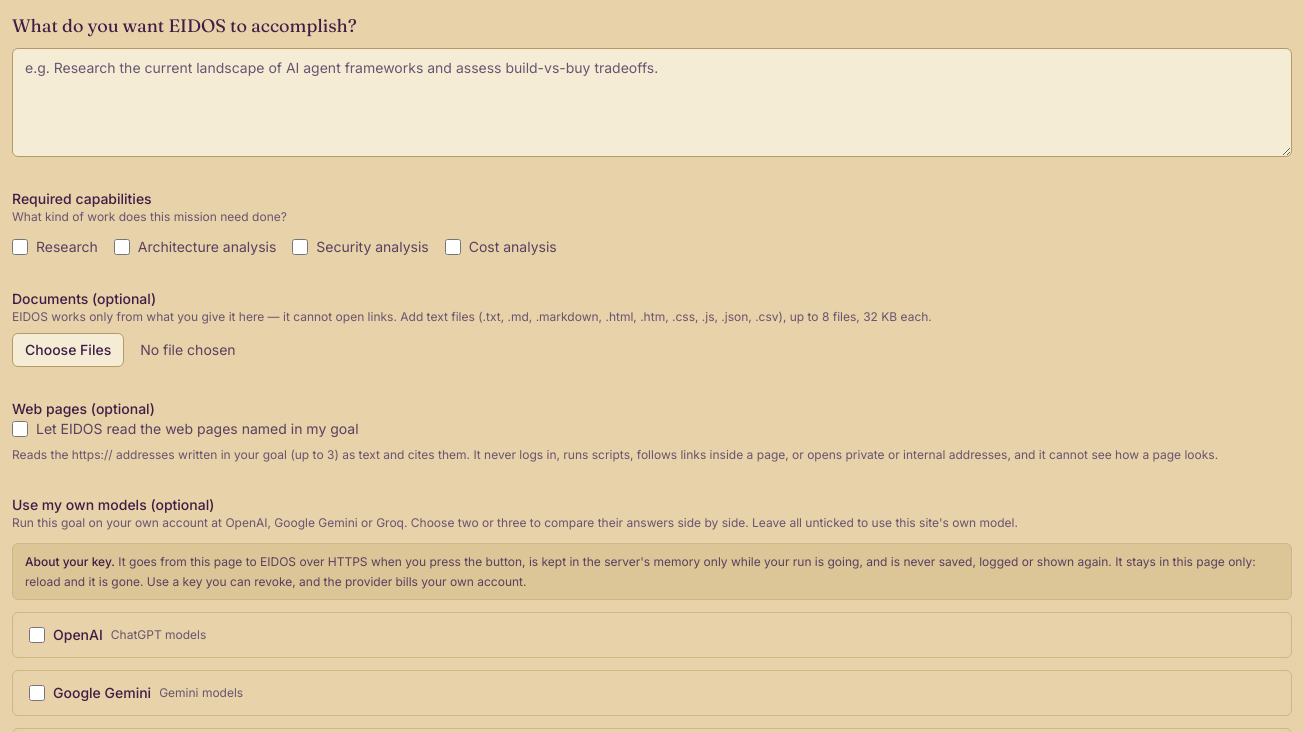
Test: CreateMissionForm — documents › tells the visitor, before sending, when the goal names no address to read
Replace the text in the text box labelled "What do you want EIDOS to accomplish?" with "Review my portfolio". click: (652, 102)
box: [12,48,1292,157]
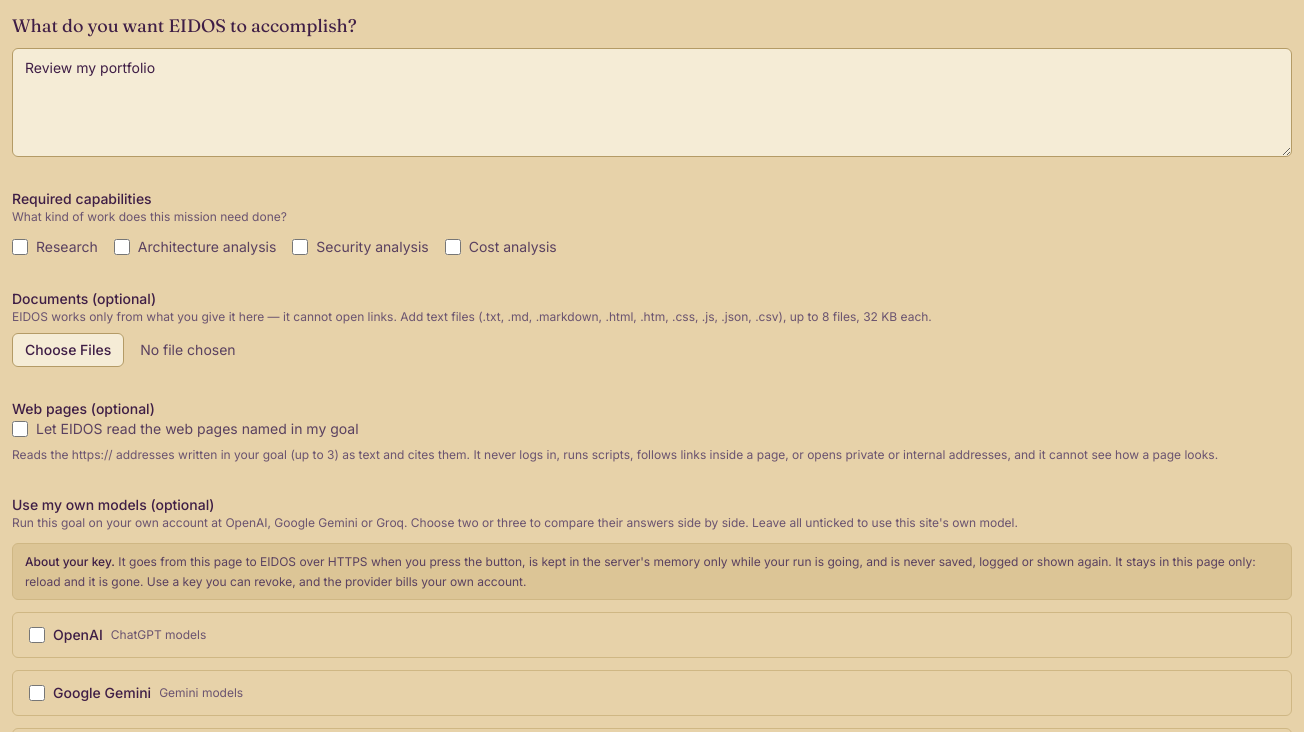
Click the checkbox labelled "Let EIDOS read the web pages named in my goal". click: click(20, 429)
box: [12,421,28,437]
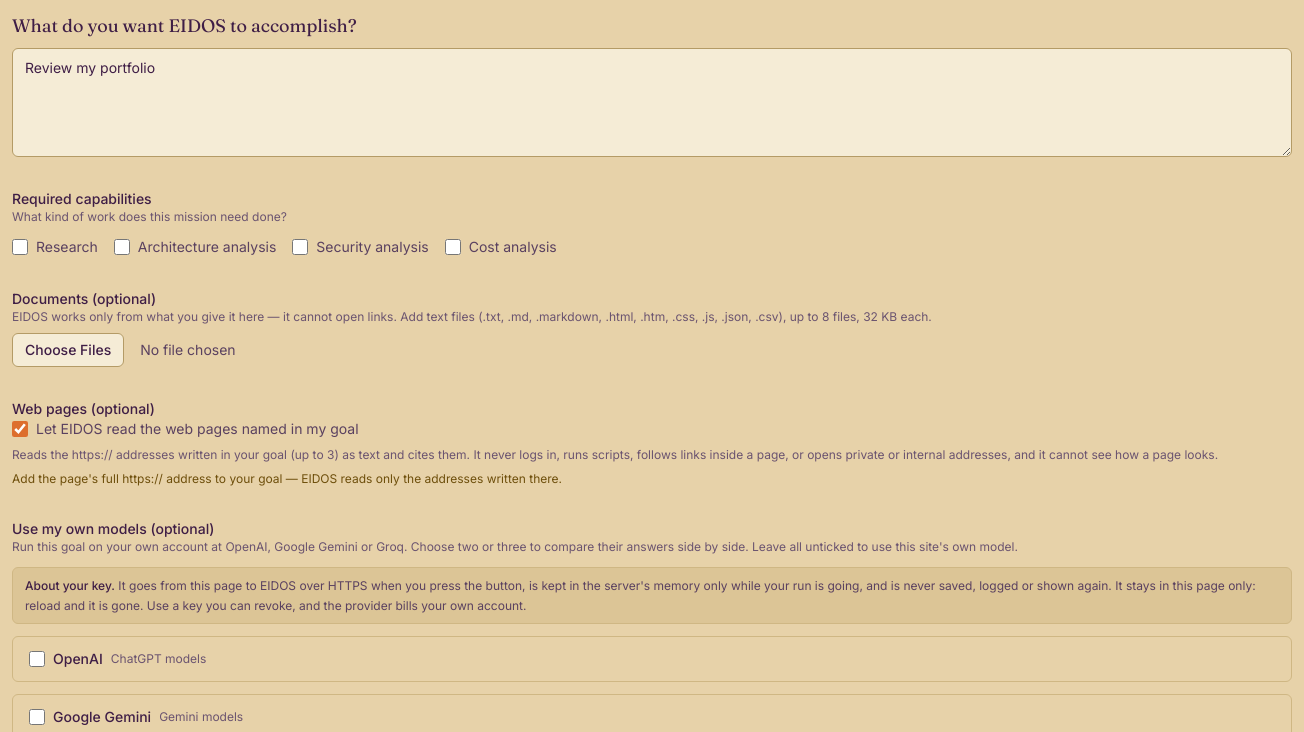
Now the message shows "full https:// address", box [12,471,562,486]
